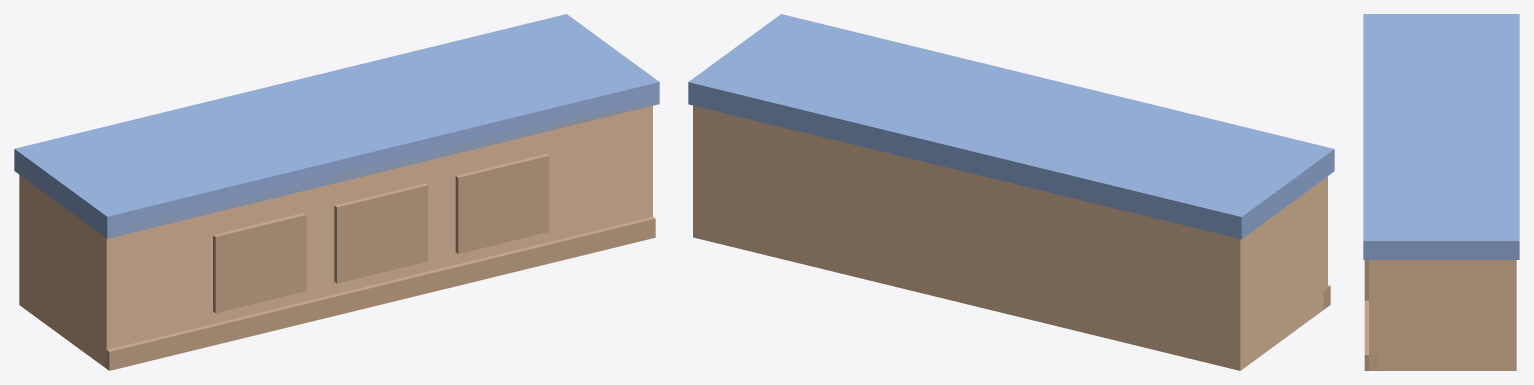
File: toyBoxBench.glb
3 renders of one model, left to right at view 1: azimuth 30°, elevation 25°; view 2: azimuth 150°, elevation 25°; view 3: azimuth 270°, elevation 25°, orthographic. The views are drawn at different scales.
Visible parts, largest first — view 1: toyBoxBench, anim:lid; view 2: toyBoxBench, anim:lid; view 3: anim:lid, toyBoxBench.
Part boxes in pixels (bbox=[...]): toyBoxBench: bbox=[19, 106, 655, 370]; anim:lid: bbox=[14, 14, 659, 238]; toyBoxBench: bbox=[693, 105, 1330, 370]; anim:lid: bbox=[688, 14, 1334, 239]; anim:lid: bbox=[1363, 14, 1519, 259]; toyBoxBench: bbox=[1364, 260, 1516, 370].
Size of the model in its own units: 0.91 by 0.245 by 0.265.
